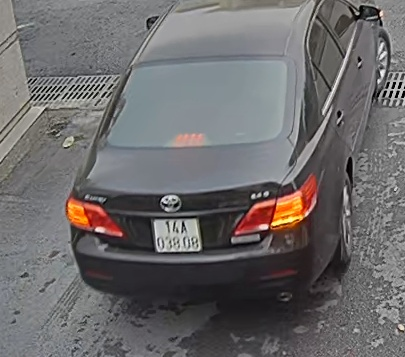vehicle plate: (145, 211, 205, 257)
